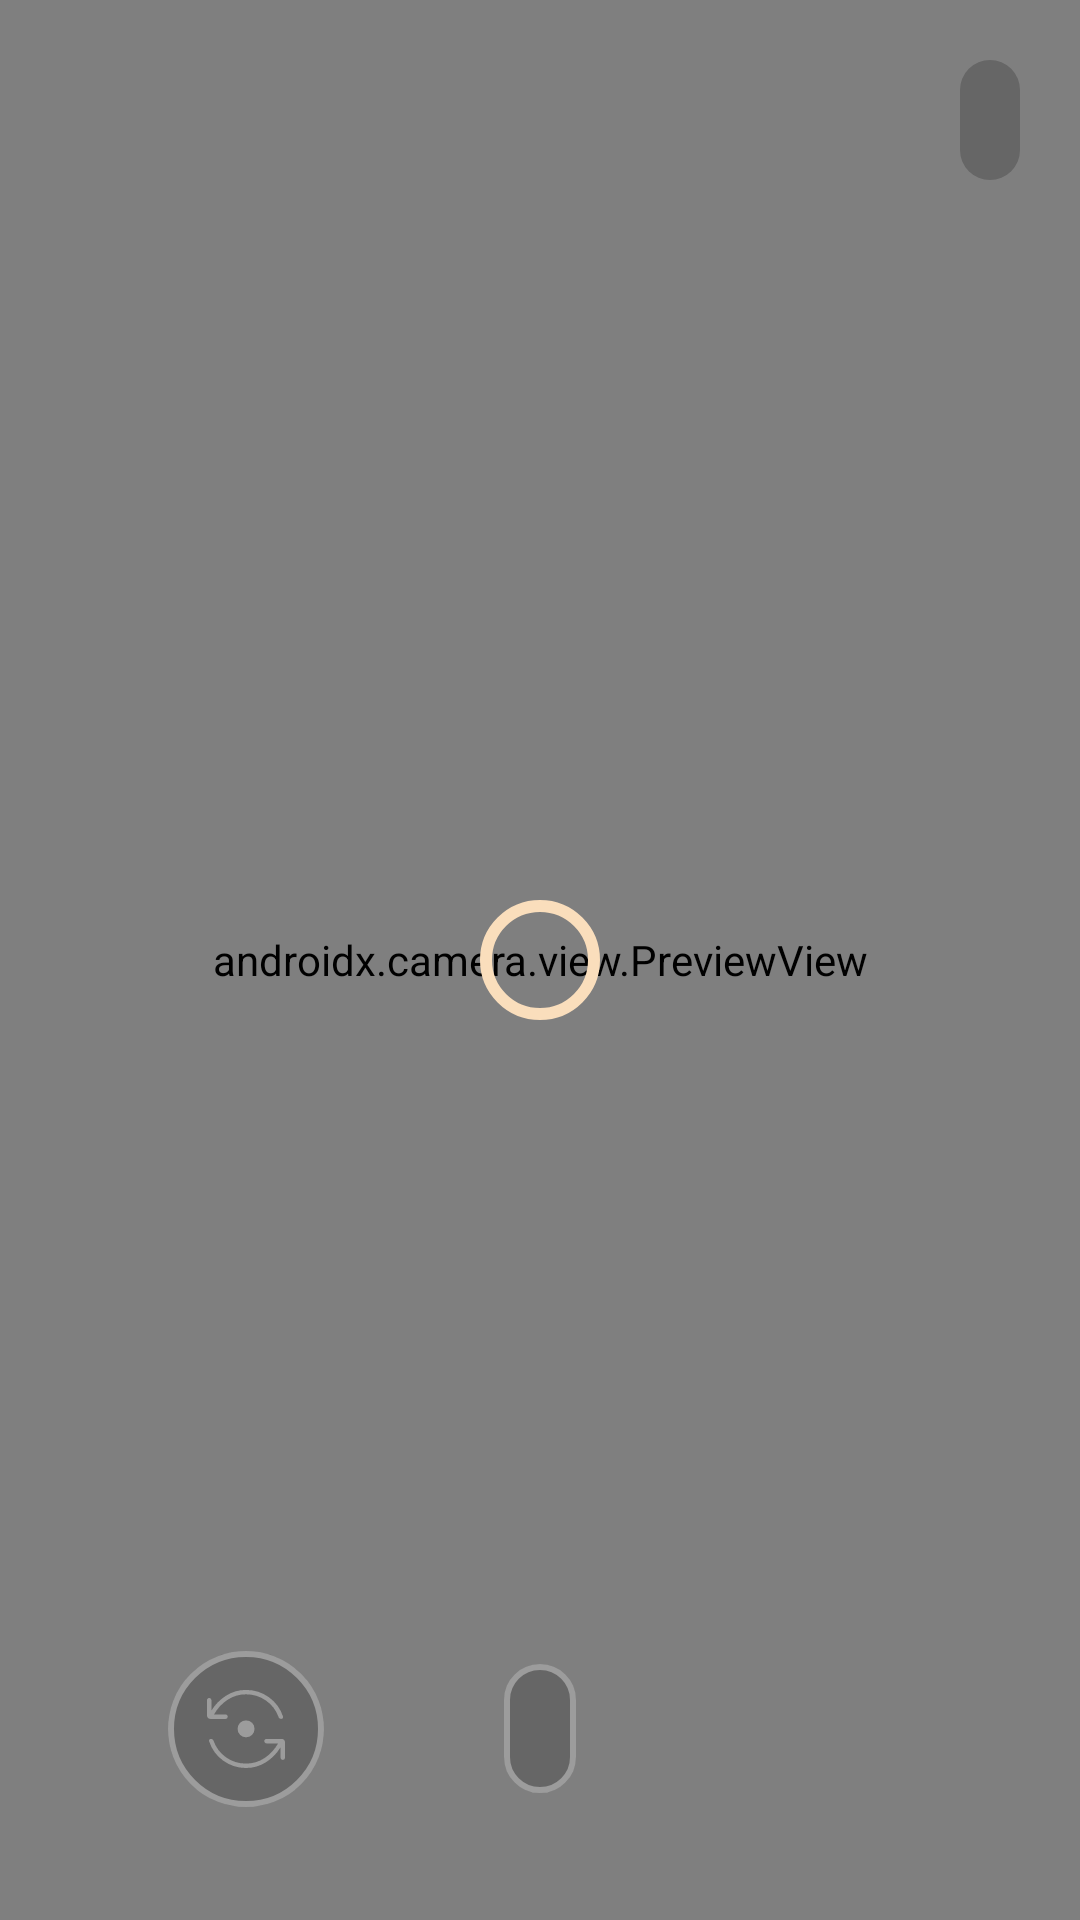

Locate icon controls on the screen. Image size 1080px×1920px, boxes as BBox(x1, y1, x2, y2).
Flip Camera: BBox(168, 1651, 324, 1807)
